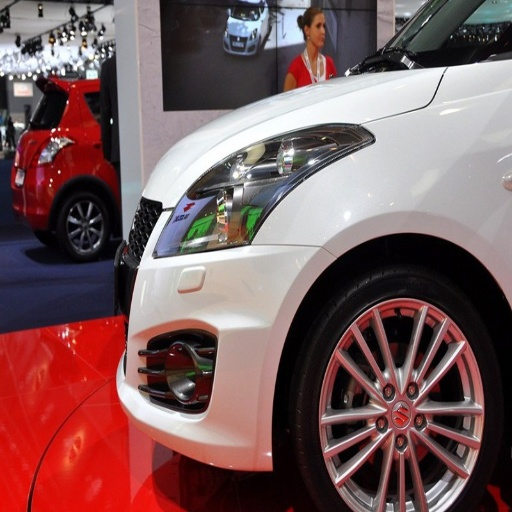front_bumper: (119, 339, 277, 469)
trunk: (138, 260, 286, 357)
